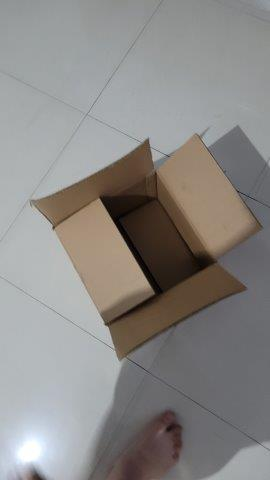kardus: (31, 134, 263, 359)
